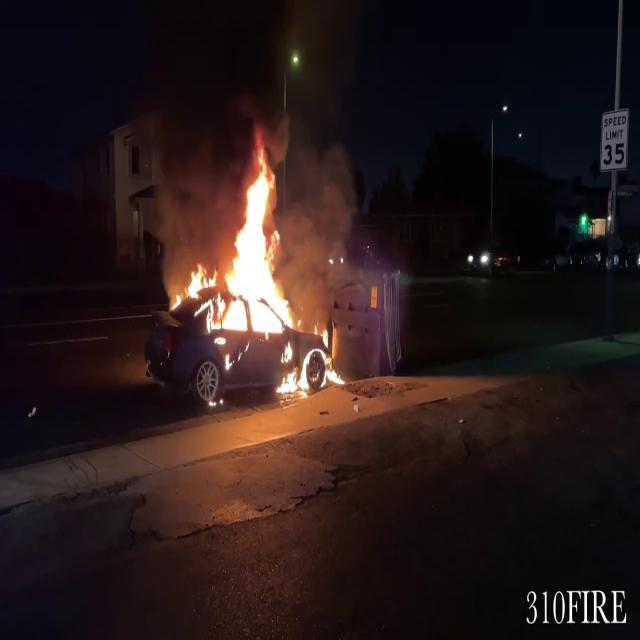Fire: (178, 132, 340, 400)
